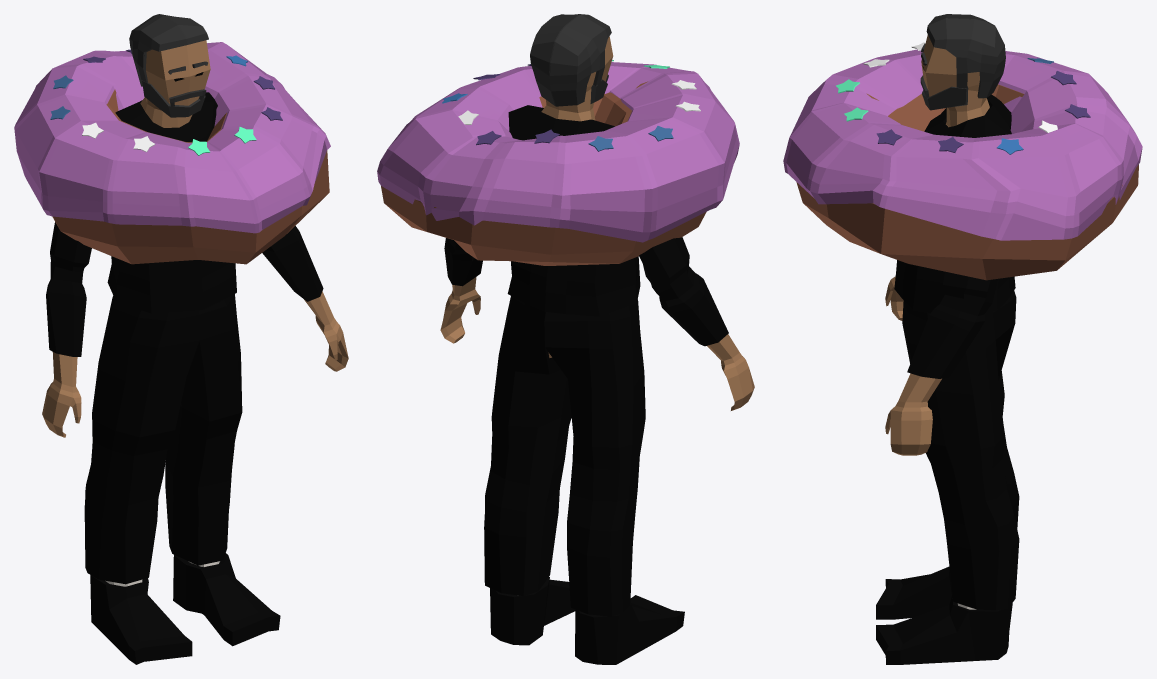
File: LPC_Donut_(srasmussen).fbx
3 renders of one model, left to right at view 1: azimuth 30°, elevation 25°; view 2: azimuth 150°, elevation 25°; view 3: azimuth 270°, elevation 25°, orthographic. The views are drawn at different scales.
Parts seen in each view (by area): view 1: LPH_Donut; view 2: LPH_Donut; view 3: LPH_Donut.
Part boxes in pixels (x1,y1,x2,y2): LPH_Donut: [14, 14, 348, 664]; LPH_Donut: [377, 14, 754, 664]; LPH_Donut: [783, 14, 1142, 664].
Size of the model in its own units: 235 by 458 by 244.
1 material, 1 textured.
